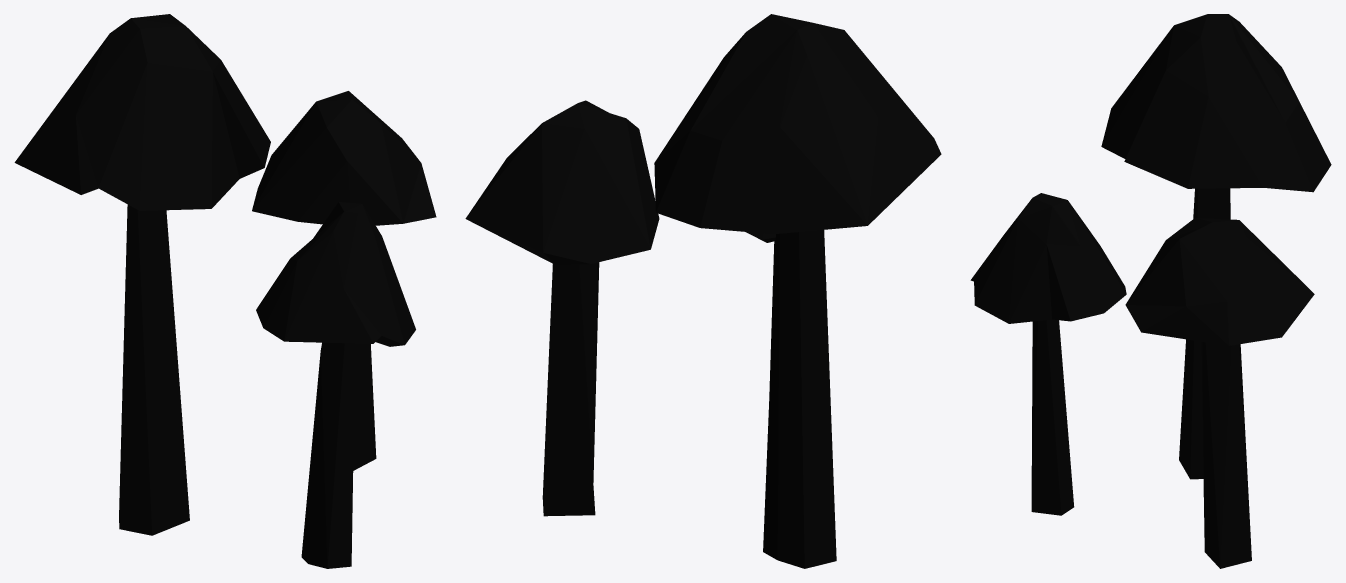
The model's file is synty-plant-mushrooms-05.gltf.
The picture shows the model from 3 angles, left to right: view 1: azimuth 30°, elevation 25°; view 2: azimuth 150°, elevation 25°; view 3: azimuth 270°, elevation 25°; orthographic projection. The views are drawn at different scales.
Visible parts, largest first — view 1: SM_Plant_Mushrooms_05; view 2: SM_Plant_Mushrooms_05; view 3: SM_Plant_Mushrooms_05.
Boxes of the visible parts, bbox=[...] form: SM_Plant_Mushrooms_05: bbox=[14, 14, 436, 568]; SM_Plant_Mushrooms_05: bbox=[465, 14, 941, 568]; SM_Plant_Mushrooms_05: bbox=[970, 14, 1331, 568].
Size of the model in its own units: 0.384 by 0.477 by 0.348.
Materials: 1 (1 with a texture image).
